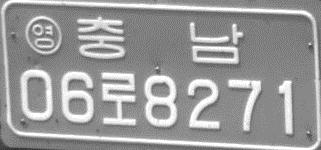0: (19, 68, 54, 121)
1: (269, 79, 304, 136)
2: (186, 78, 221, 130)
6: (59, 70, 97, 124)
7: (227, 77, 262, 133)
8: (142, 74, 178, 129)
로: (100, 71, 138, 127)
영: (23, 14, 64, 56)
충남_D: (76, 14, 243, 64)
